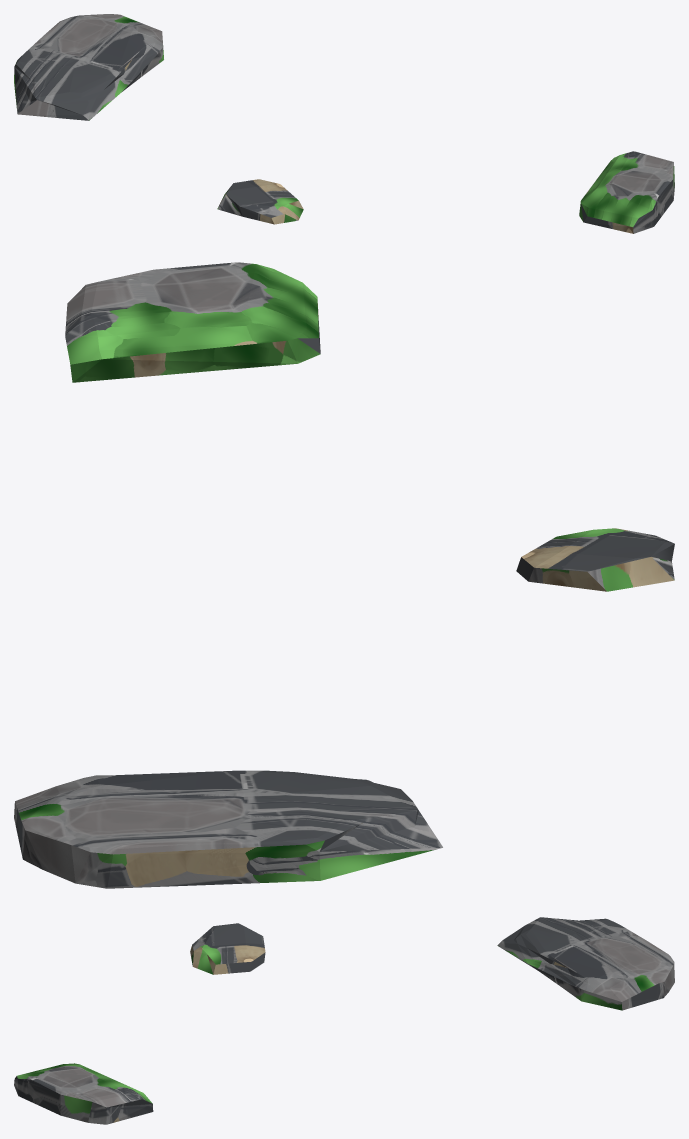
File: Rocks03.fbx
3 renders of one model, top to bottom at view 1: azimuth 30°, elevation 25°; view 2: azimuth 150°, elevation 25°; view 3: azimuth 270°, elevation 25°, orthographic. The views are drawn at different scales.
Visible parts, largest first — view 1: GroundClutter_LP.025; view 2: GroundClutter_LP.025; view 3: GroundClutter_LP.025.
Boxes of the visible parts, <box> form: GroundClutter_LP.025: <box>14,14,674,233</box>; GroundClutter_LP.025: <box>14,262,674,888</box>; GroundClutter_LP.025: <box>14,917,674,1124</box>.
Size of the model in its own units: 108 by 6.27 by 150.
